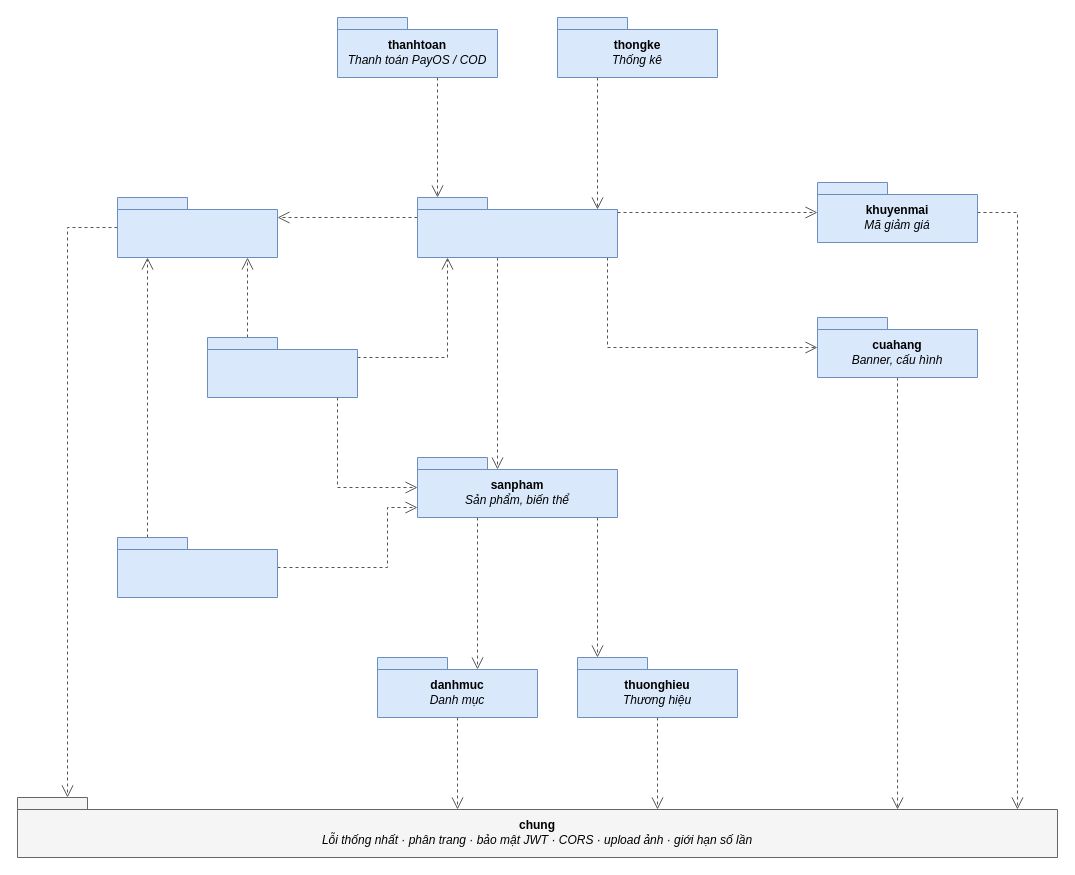
Image size: 1075x875. Some labels were removed from this diagram. Each missing label, with the box of its shape:
danhgia Đánh giá: (206, 336, 358, 398)
donhang Đơn hàng, tồn kho: (416, 196, 618, 258)
giohang Giỏ hàng, yêu thích: (116, 536, 278, 598)
taikhoan Tài khoản, địa chỉ: (116, 196, 278, 258)
